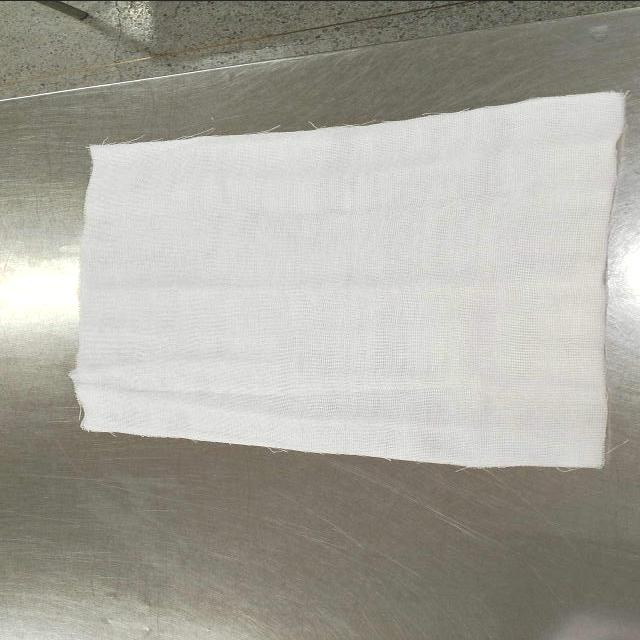General: (68, 86, 626, 471)
Sharps: (34, 0, 90, 21)
